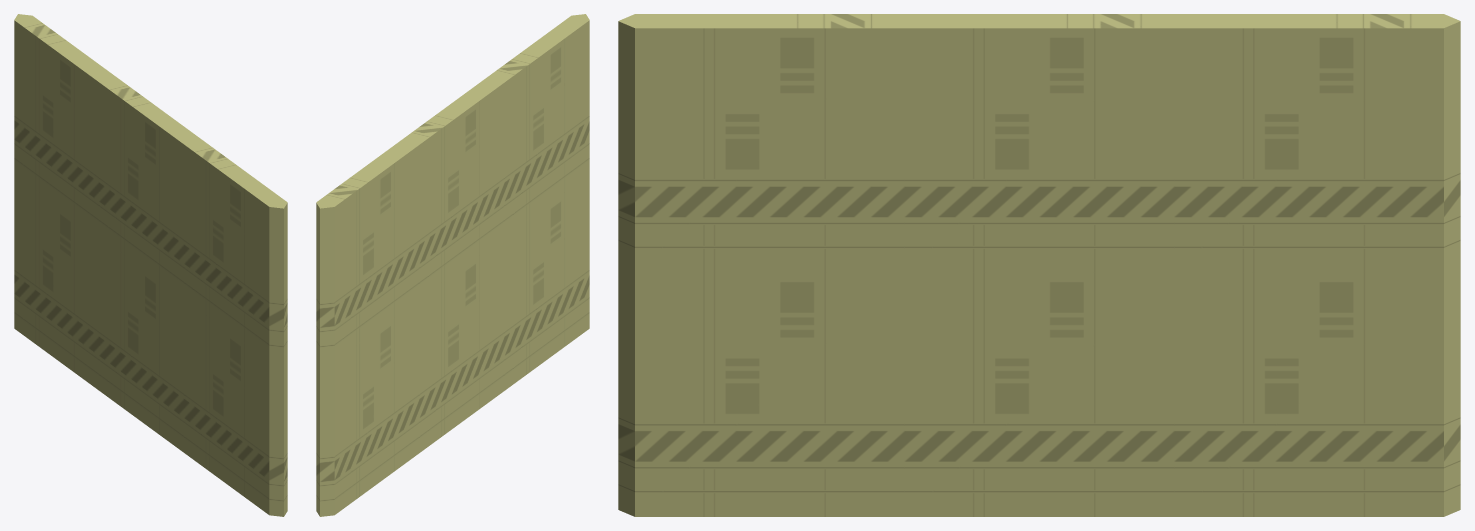
File: DummyWall3.glb
The picture shows the model from 3 angles, left to right: view 1: azimuth 30°, elevation 25°; view 2: azimuth 150°, elevation 25°; view 3: azimuth 270°, elevation 25°; orthographic projection. The views are drawn at different scales.
Parts seen in each view (by area): view 1: mergedBlocks(Clone); view 2: mergedBlocks(Clone); view 3: mergedBlocks(Clone).
Boxes of the visible parts, x1,y1,x2,y2 form: mergedBlocks(Clone): [14, 14, 287, 516]; mergedBlocks(Clone): [316, 14, 589, 516]; mergedBlocks(Clone): [618, 14, 1460, 516].
Size of the model in its own units: 0.125 by 2 by 3.13.
Materials: 1 (1 with a texture image).
